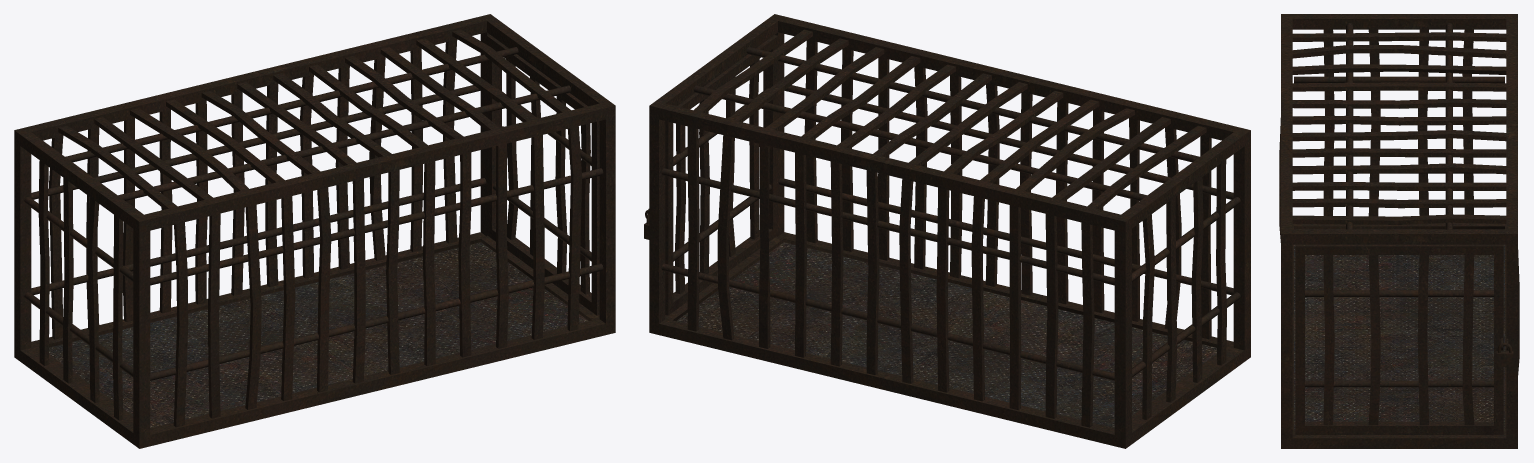
The model's file is cage_mx_1.obj.
3 views of the same model, side by side, from view 1: azimuth 30°, elevation 25°; view 2: azimuth 150°, elevation 25°; view 3: azimuth 270°, elevation 25° (orthographic). The views are drawn at different scales.
Visible parts, largest first — view 1: cage_mx_1, cage_mx_1_door; view 2: cage_mx_1, cage_mx_1_door; view 3: cage_mx_1, cage_mx_1_door, padlock_mx_1.
Part boxes in pixels (x1=…): cage_mx_1: x1=14, y1=14, x2=615, y2=448; cage_mx_1_door: x1=487, y1=35, x2=599, y2=315; cage_mx_1: x1=645, y1=14, x2=1250, y2=448; cage_mx_1_door: x1=648, y1=35, x2=777, y2=315; cage_mx_1: x1=1279, y1=14, x2=1519, y2=448; cage_mx_1_door: x1=1295, y1=244, x2=1503, y2=434; padlock_mx_1: x1=1496, y1=343, x2=1513, y2=366.
Size of the model in its own units: 4.48 by 2.01 by 2.03.
